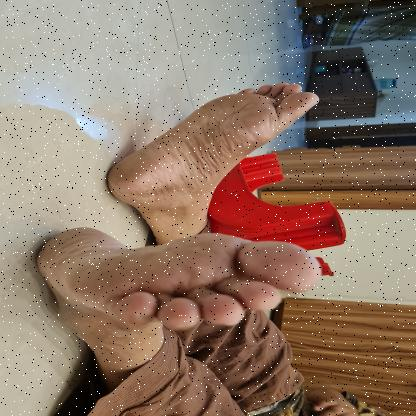leg: (27, 220, 335, 366), (95, 75, 312, 241)
